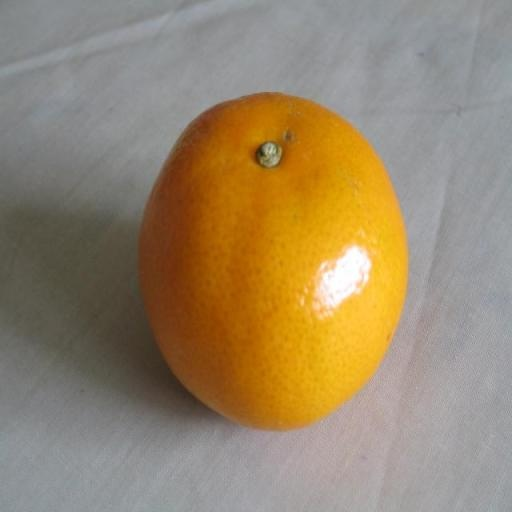fruit: (140, 94, 407, 429)
